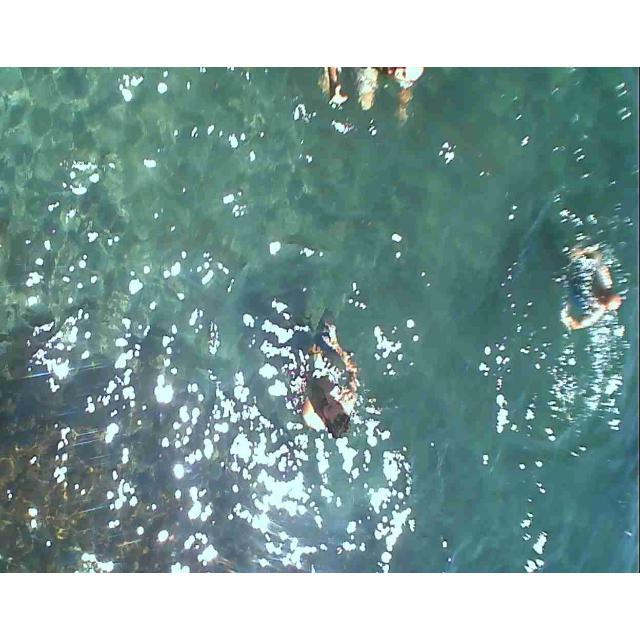human: (288, 317, 359, 449), (558, 234, 622, 347), (316, 67, 417, 128)
